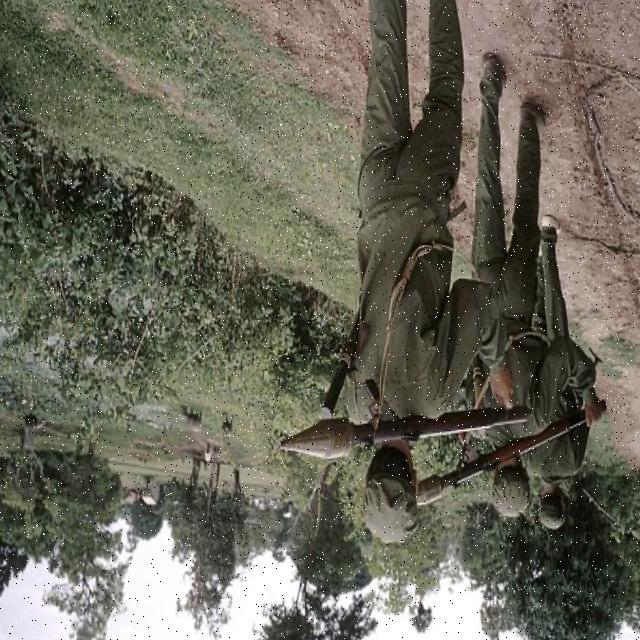bazooka: (411, 395, 612, 513), (279, 402, 540, 466)
